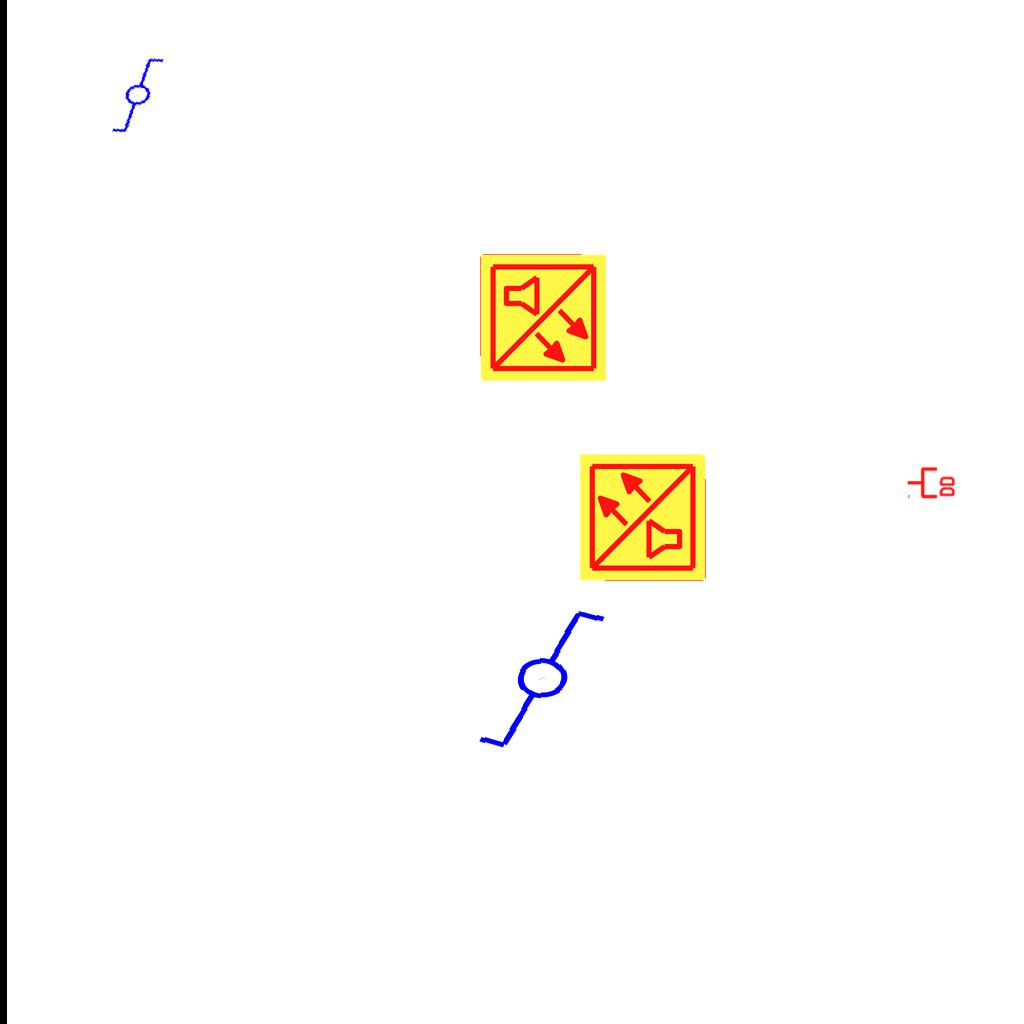Datenanschluss_zweifach: (906, 465, 957, 499)
OKW_Multisensormelder_(Kombination_optischer_Rauch-Kahlenmonoxid_Waerme-Melder): (577, 451, 709, 583), (477, 252, 609, 384)
Wechselschalter: (468, 603, 633, 757), (95, 51, 189, 139)
